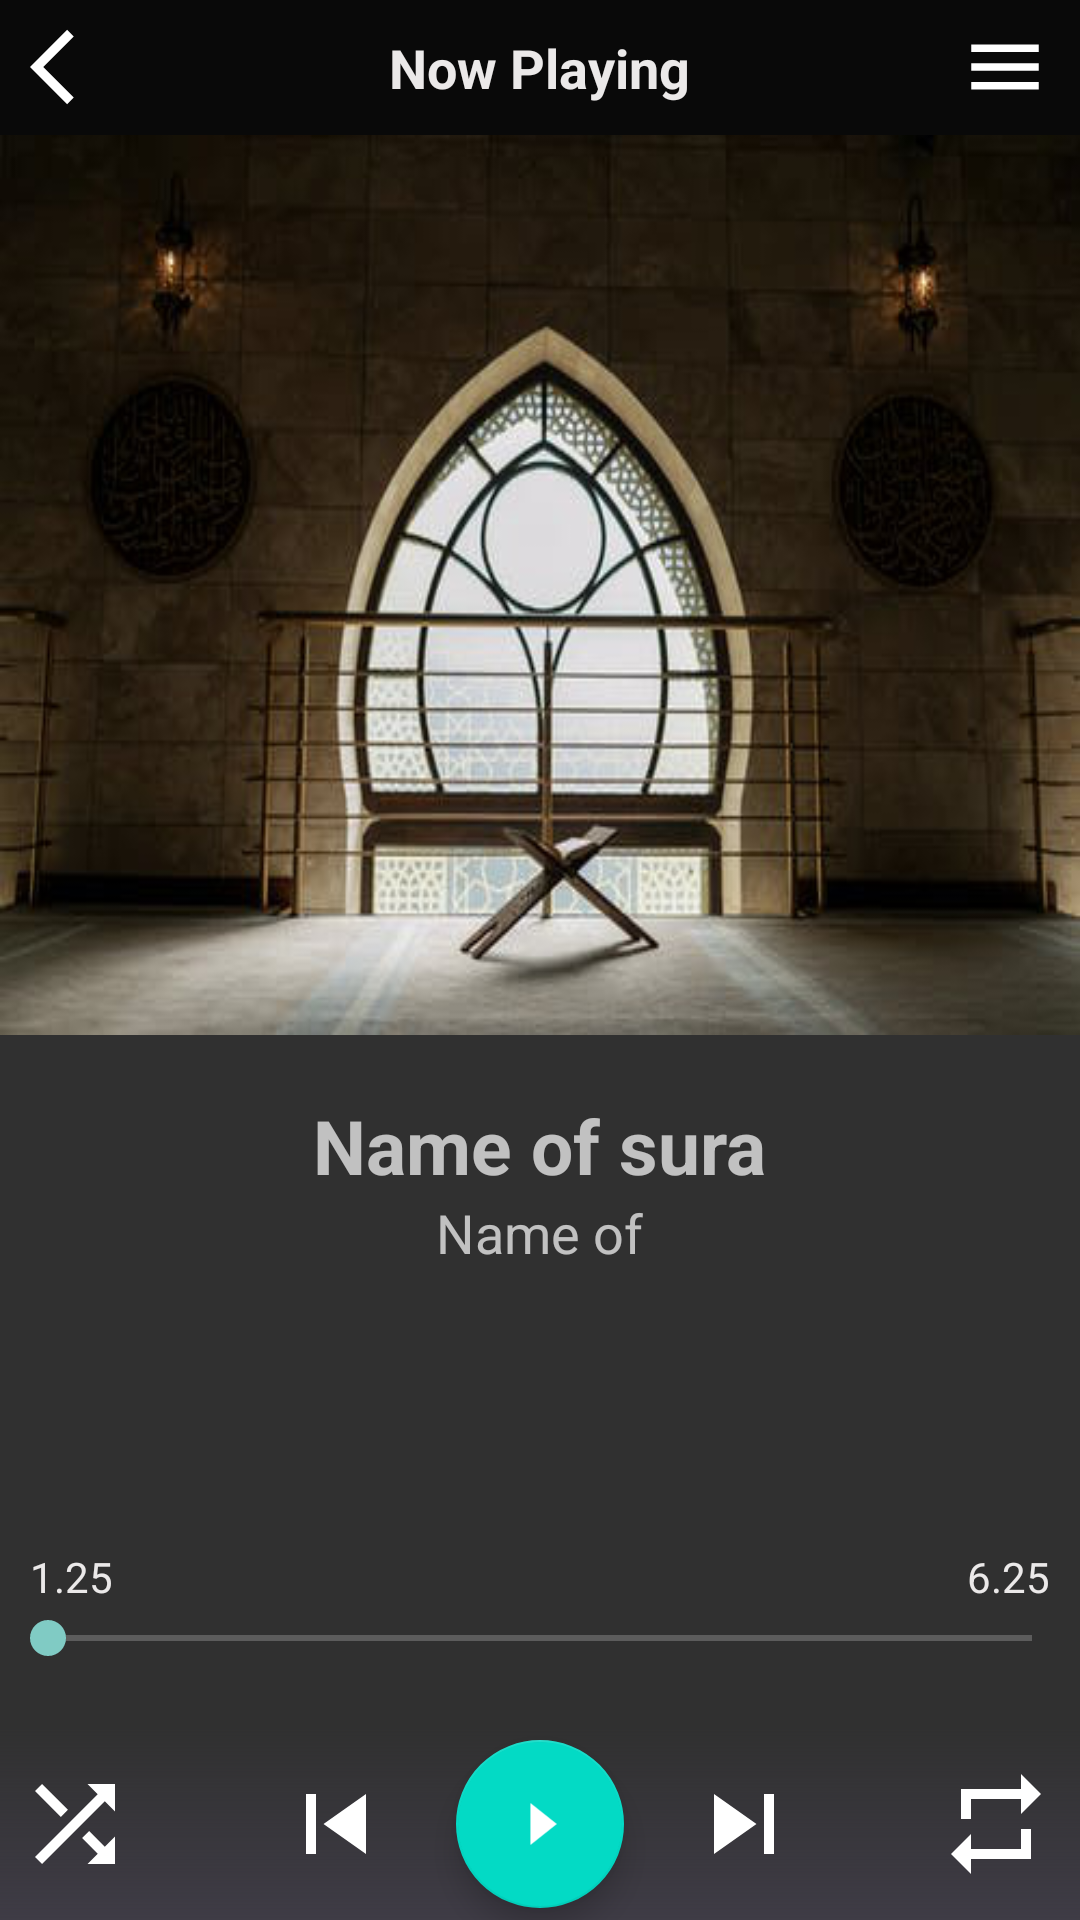

Where icons sit on this 1080w x 1920h app screen, as [x1, y1, x2, y2]:
arrow back: [30, 30, 74, 104]
menu: [971, 44, 1039, 90]
play arrow: [456, 1740, 624, 1908]
repeat: [951, 1774, 1041, 1874]
shuffle: [35, 1784, 115, 1864]
skip next: [714, 1794, 774, 1854]
skip previous: [306, 1794, 366, 1854]
